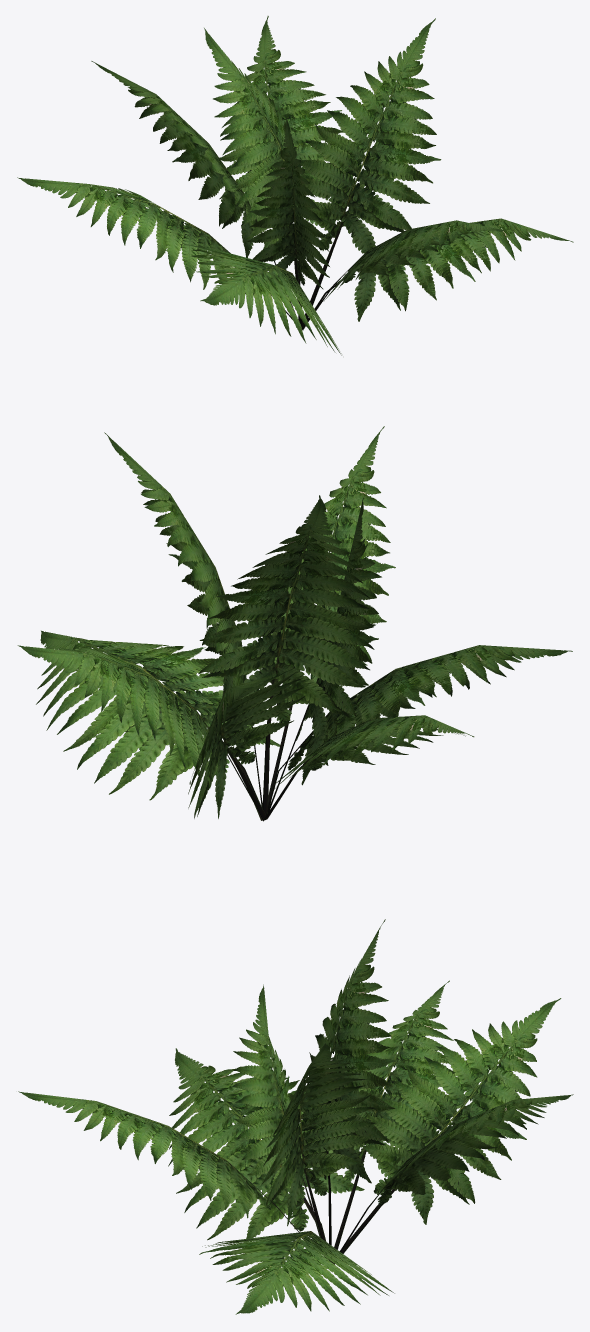
The model's file is MK4_Trop_Plant10.DAE.
3 renders of one model, top to bottom at view 1: azimuth 30°, elevation 25°; view 2: azimuth 150°, elevation 25°; view 3: azimuth 270°, elevation 25°, orthographic. The views are drawn at different scales.
Parts seen in each view (by area): view 1: MK4_Trop_plant10; view 2: MK4_Trop_plant10; view 3: MK4_Trop_plant10.
Boxes of the visible parts, box(x1,y1,x2,y2) form: MK4_Trop_plant10: box(17, 16, 573, 355); MK4_Trop_plant10: box(17, 426, 572, 821); MK4_Trop_plant10: box(18, 919, 573, 1314).
Size of the model in its own units: 2.35 by 2.4 by 1.65.
